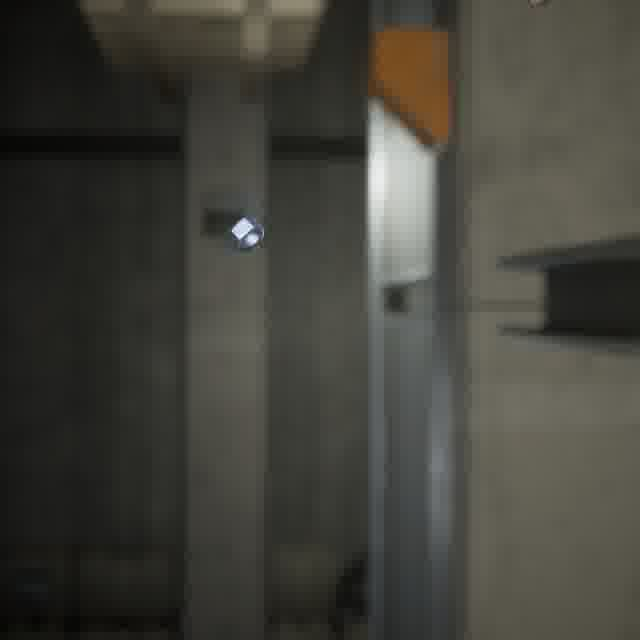nut: (225, 212, 268, 255)
